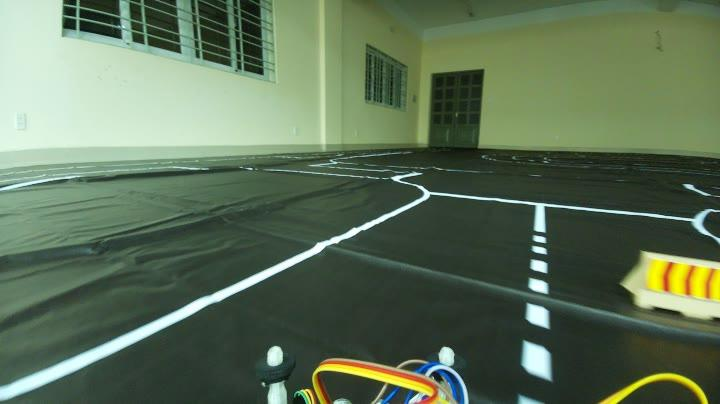roadblock: (620, 240, 720, 332)
